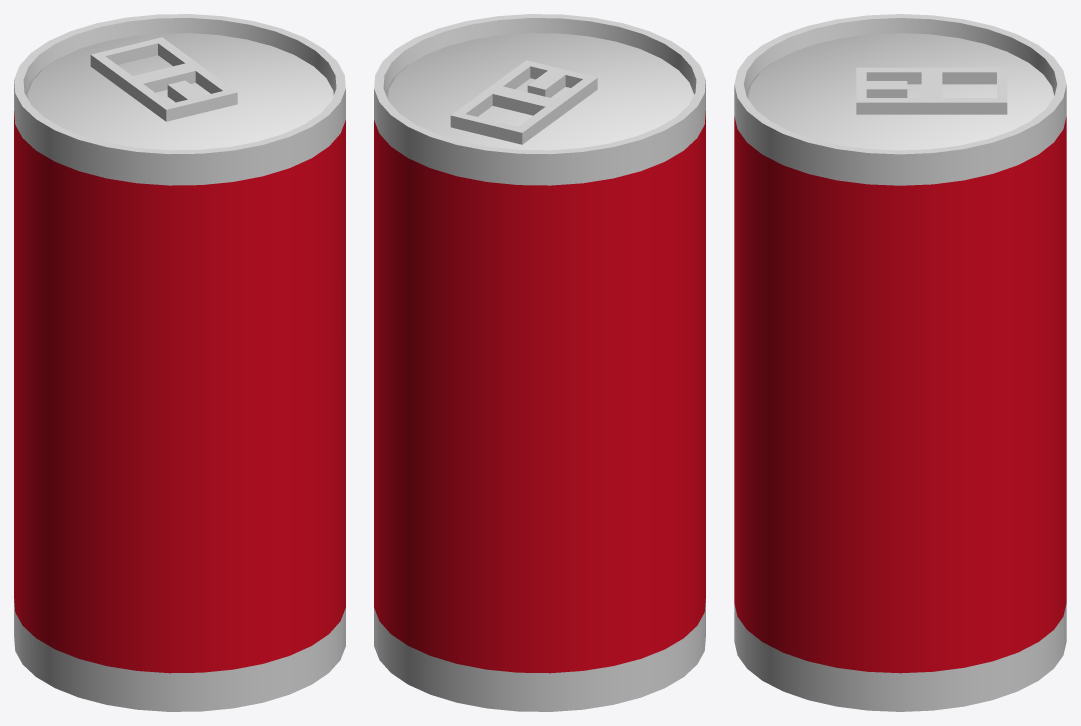
The model's file is coke.glb.
The picture shows the model from 3 angles, left to right: view 1: azimuth 30°, elevation 25°; view 2: azimuth 150°, elevation 25°; view 3: azimuth 270°, elevation 25°; orthographic projection.
Parts seen in each view (by area): view 1: Lacre; view 2: Lacre; view 3: Lacre.
Boxes of the visible parts, x1,y1,x2,y2 form: Lacre: [14, 14, 345, 711]; Lacre: [374, 14, 705, 711]; Lacre: [734, 14, 1066, 711].
Bounding box in the file's own units: 0.066 × 0.1222 × 0.066.
